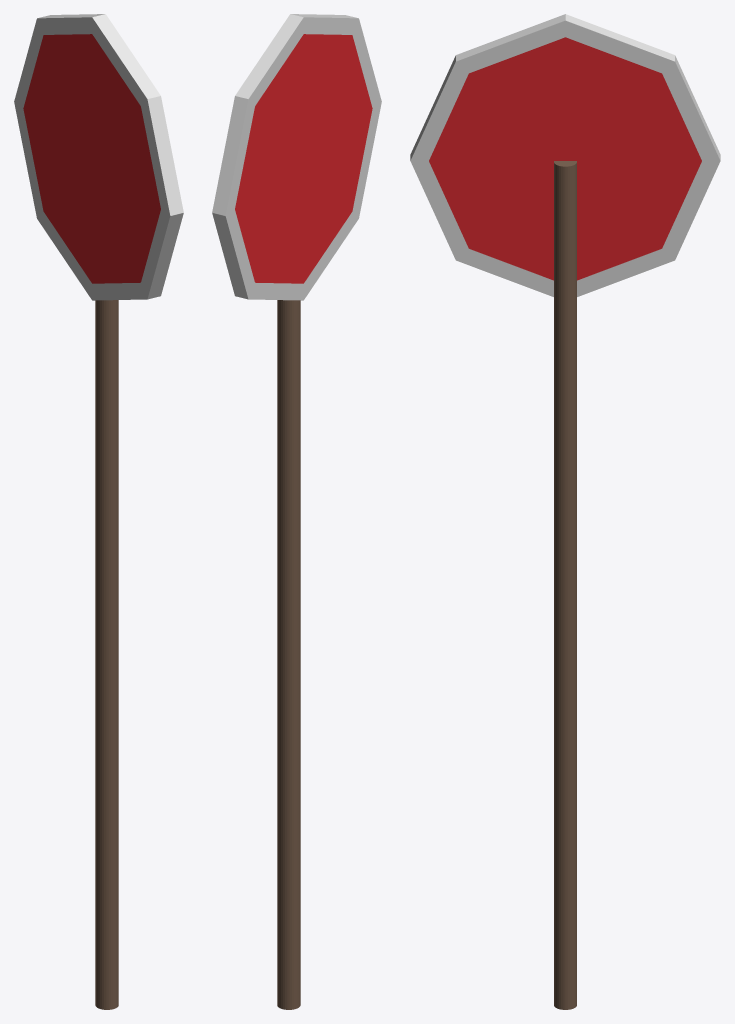
File: stopsign_scaled.fbx
3 views of the same model, side by side, from view 1: azimuth 30°, elevation 25°; view 2: azimuth 150°, elevation 25°; view 3: azimuth 270°, elevation 25° (orthographic).
Parts seen in each view (by area): view 1: Cylinder.001; view 2: Cylinder.001; view 3: Cylinder.001.
Part boxes in pixels (bbox=[...]): Cylinder.001: bbox=[14, 14, 183, 1009]; Cylinder.001: bbox=[212, 14, 381, 1009]; Cylinder.001: bbox=[410, 14, 720, 1009].
Size of the model in its own units: 3.7 by 140 by 40.
